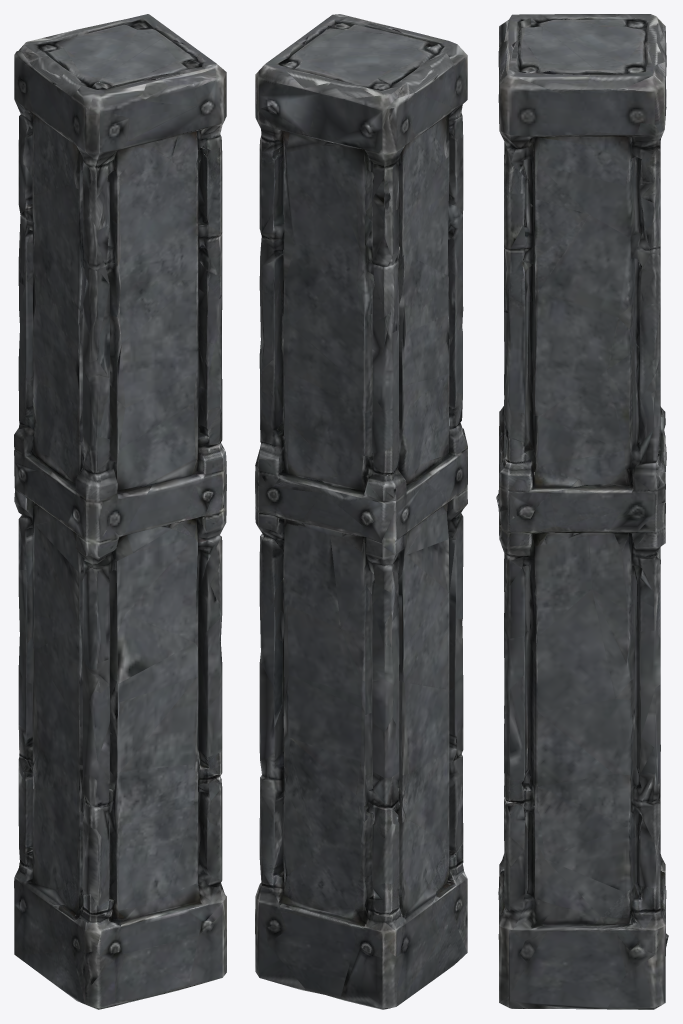
Rendered from obstacle-wall-metal.glb.
3 renders of one model, left to right at view 1: azimuth 30°, elevation 25°; view 2: azimuth 150°, elevation 25°; view 3: azimuth 270°, elevation 25°, orthographic. The views are drawn at different scales.
Size of the model in its own units: 0.3148 by 1.9 by 0.319.
Materials: 1 (1 with a texture image).
